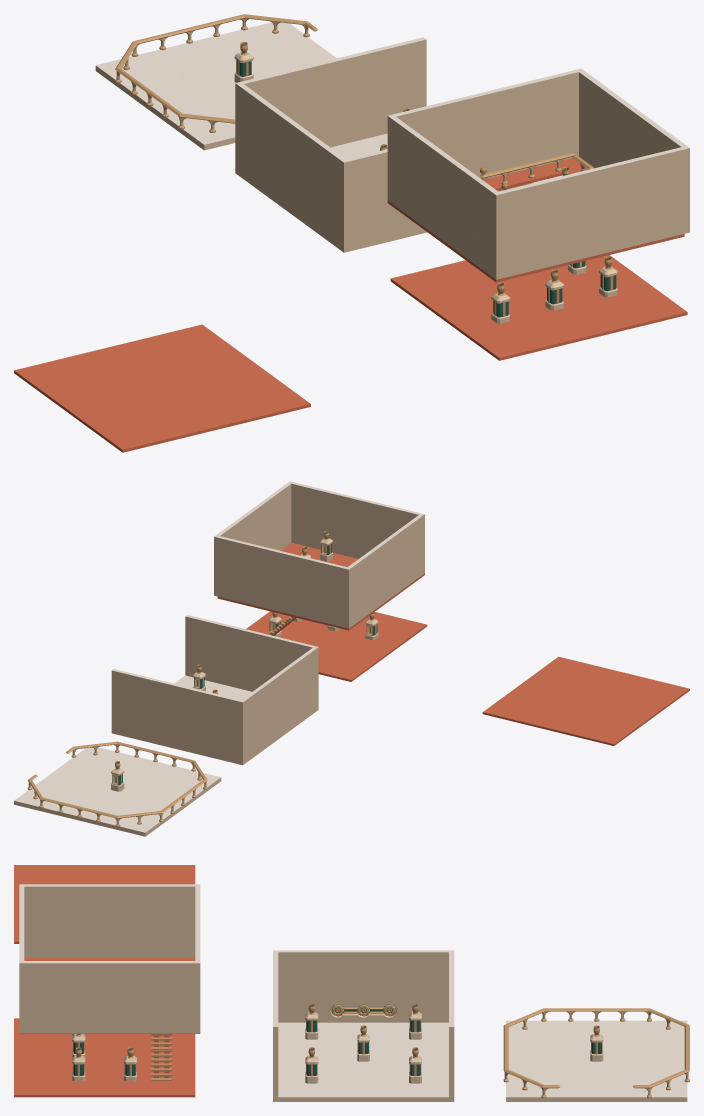
Rendered from room1.obj.
3 renders of one model, top to bottom at view 1: azimuth 30°, elevation 25°; view 2: azimuth 150°, elevation 25°; view 3: azimuth 270°, elevation 25°, orthographic. The views are drawn at different scales.
Parts seen in each view (by area): view 1: mergedBlocks; view 2: mergedBlocks; view 3: mergedBlocks.
Boxes of the visible parts, x1=… form: mergedBlocks: x1=14, y1=14, x2=689, y2=452; mergedBlocks: x1=14, y1=481, x2=689, y2=836; mergedBlocks: x1=14, y1=865, x2=689, y2=1101.
Bounding box in the file's own units: 21.2 × 6 × 26.1.
